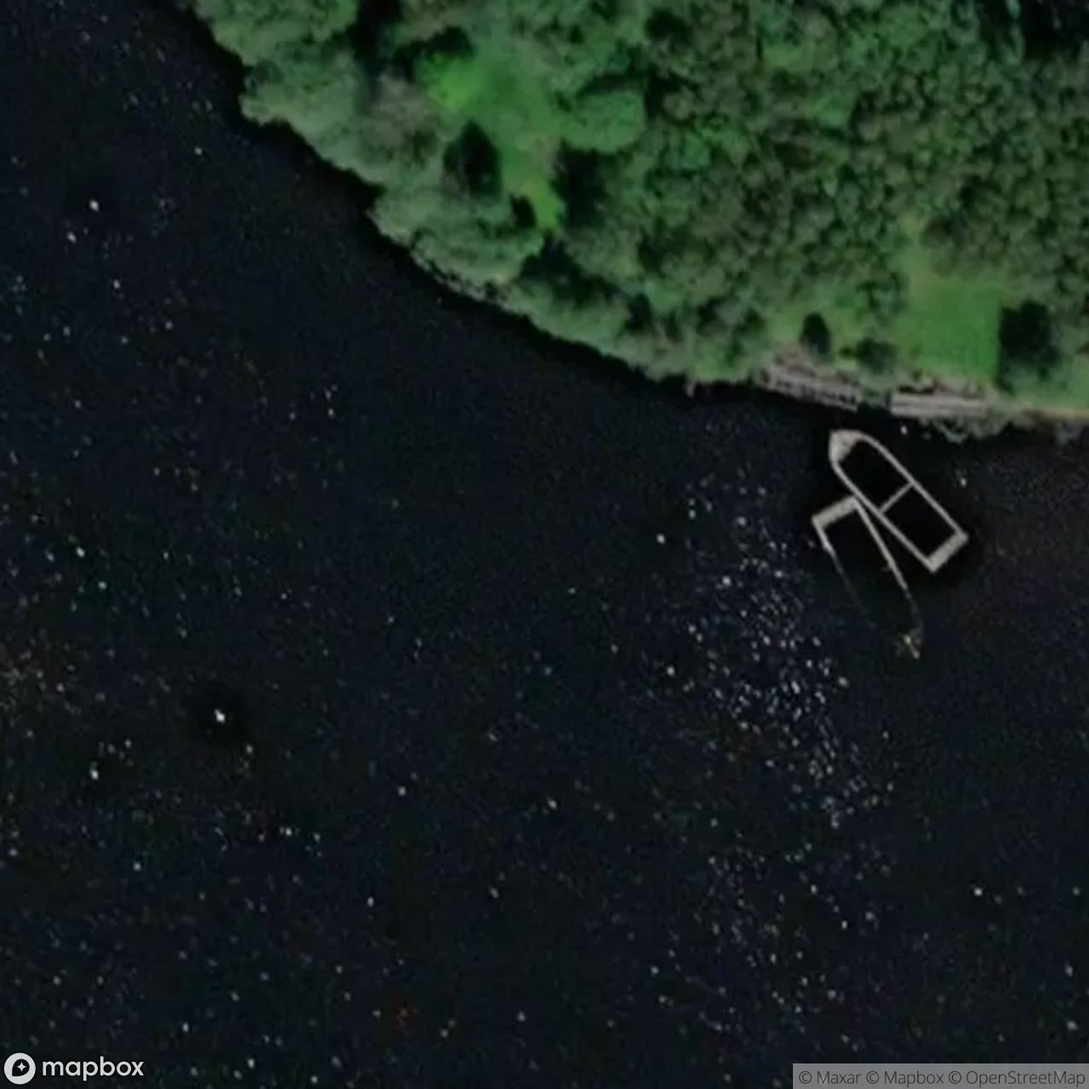Wreck: (714, 396, 1057, 634)
